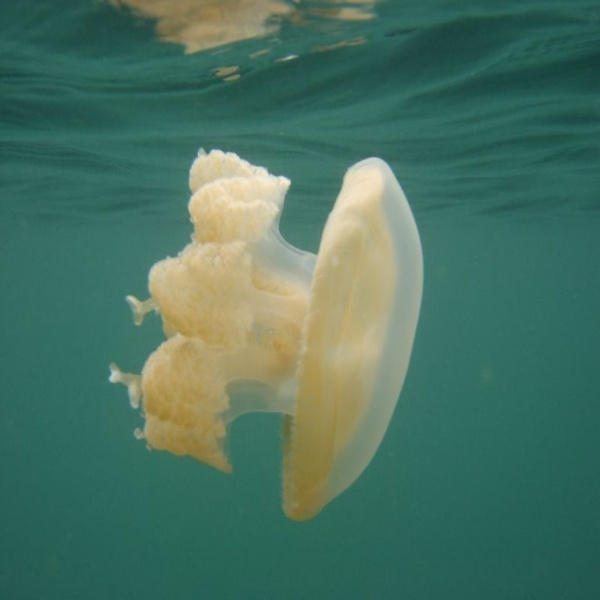Jellyfish: (108, 145, 426, 522)
